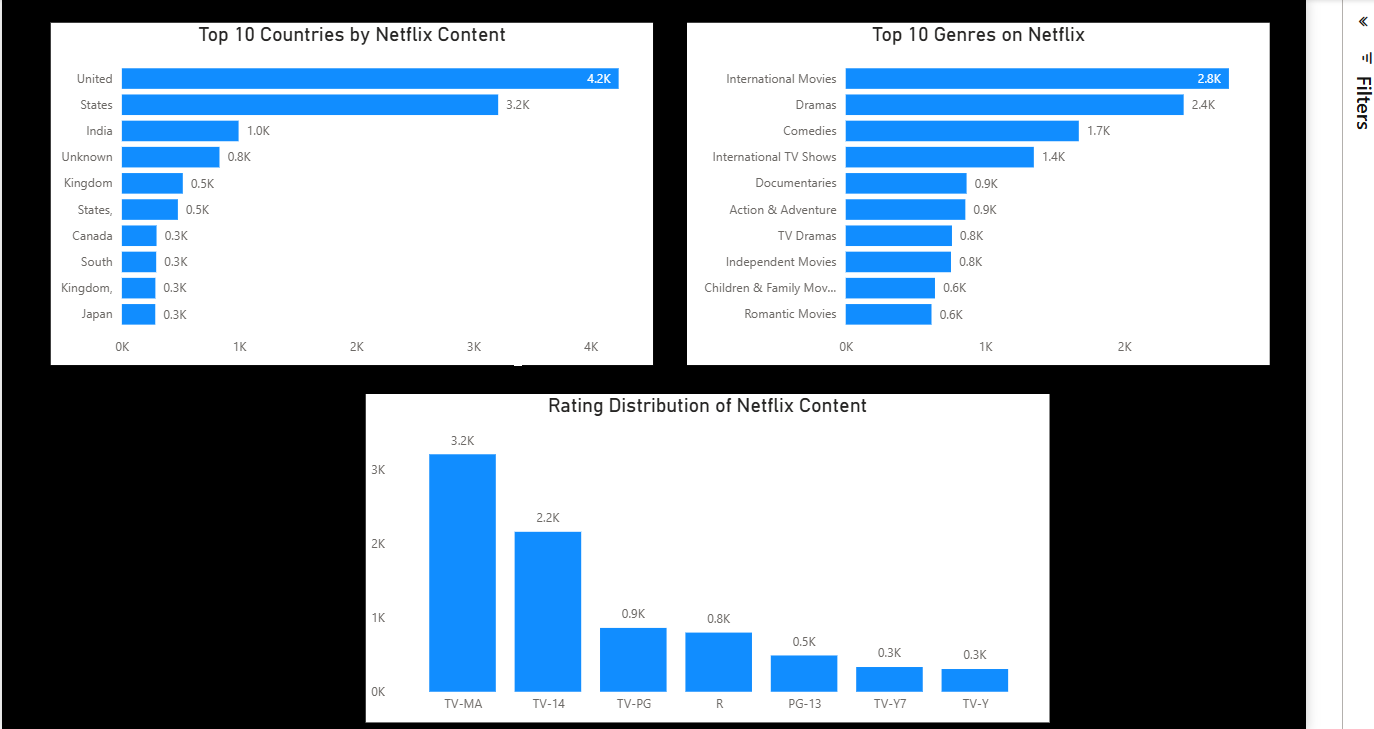

The page's visual inventory and layout, read from the dashboard file:
{"tool":"powerbi","page":{"name":"Geographic & Content Breakdown","canvas":[1280,720],"ordinal":1},"visuals":[{"type":"clusteredBarChart","title":"Top 10 Countries by Netflix Content","fields":{"Category":["netflix_titles.country"],"Y":["netflix_titles.Total Titles"]},"box":[48,23.3,591.4,336.2],"z":0},{"type":"clusteredBarChart","title":"Top 10 Genres on Netflix","fields":{"Category":["netflix_titles.Genre"],"Y":["netflix_titles.Total Titles"]},"box":[672.4,23.3,572.2,336.2],"z":1},{"type":"clusteredColumnChart","title":"Rating Distribution of Netflix Content","fields":{"Category":["netflix_titles.rating"],"Y":["netflix_titles.Total Titles"]},"box":[356.8,388.3,671,322.5],"z":2}]}

Visuals, with their boxes on the page's 1280x720 design canvas (x1, y1, x2, y2). These are canvas units, not pixel positions in the 1374x729 screenshot, which may show the page scaled, cropped or inside an application window:
"Top 10 Countries by Netflix Content" clusteredBarChart: locate(48, 23, 639, 360)
"Top 10 Genres on Netflix" clusteredBarChart: locate(672, 23, 1245, 360)
"Rating Distribution of Netflix Content" clusteredColumnChart: locate(357, 388, 1028, 711)
